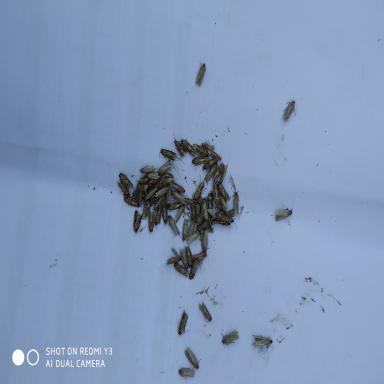pbw: (270, 200, 297, 224), (135, 190, 154, 221), (184, 345, 204, 373), (170, 129, 188, 160), (279, 97, 300, 123), (188, 174, 206, 202), (251, 333, 276, 353), (211, 210, 236, 230), (189, 256, 208, 282), (172, 363, 199, 381), (115, 167, 134, 192), (110, 178, 131, 200), (219, 328, 241, 349), (230, 189, 244, 222), (151, 192, 163, 230), (196, 300, 214, 325), (193, 58, 208, 88), (180, 134, 197, 160), (158, 140, 178, 162), (165, 188, 187, 208), (176, 308, 191, 337), (202, 162, 220, 186), (198, 194, 212, 224), (191, 140, 211, 161), (156, 154, 177, 174), (212, 175, 228, 201), (151, 170, 176, 186), (120, 194, 140, 214), (147, 184, 169, 202), (174, 262, 192, 284), (217, 162, 231, 190), (167, 214, 182, 240), (160, 199, 172, 231), (164, 246, 182, 267), (130, 207, 142, 236), (144, 181, 158, 205), (190, 250, 208, 268), (199, 228, 211, 255), (190, 156, 219, 167), (180, 212, 189, 246), (208, 206, 226, 223), (165, 198, 185, 213), (136, 170, 156, 185), (184, 217, 196, 242), (135, 162, 159, 174), (168, 180, 186, 196), (191, 194, 201, 222), (185, 229, 202, 245), (218, 194, 230, 216), (214, 158, 225, 181), (177, 246, 188, 269), (144, 208, 154, 233), (210, 178, 220, 203), (173, 204, 185, 224), (200, 138, 214, 154), (210, 150, 225, 164), (185, 244, 195, 264), (144, 171, 162, 181)
